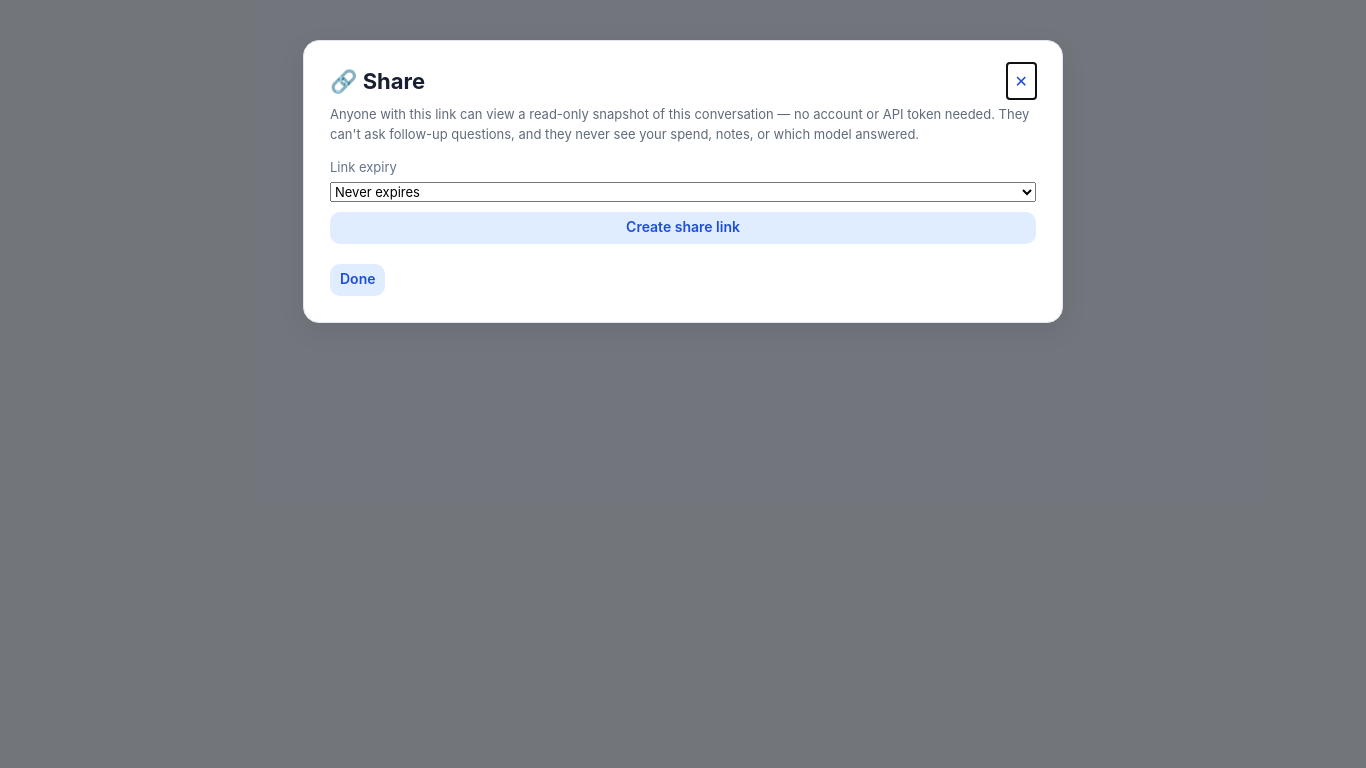
Test: Share › sends the chosen ttl_hours when creating a link
The width and height of the screenshot is (1366, 768).
Expected: the button "Create share link" is shown, [330,212,1036,244]
Select "24 hours" in the dropdown labelled "Link expiry" at (683, 192), box [330,182,1036,202]
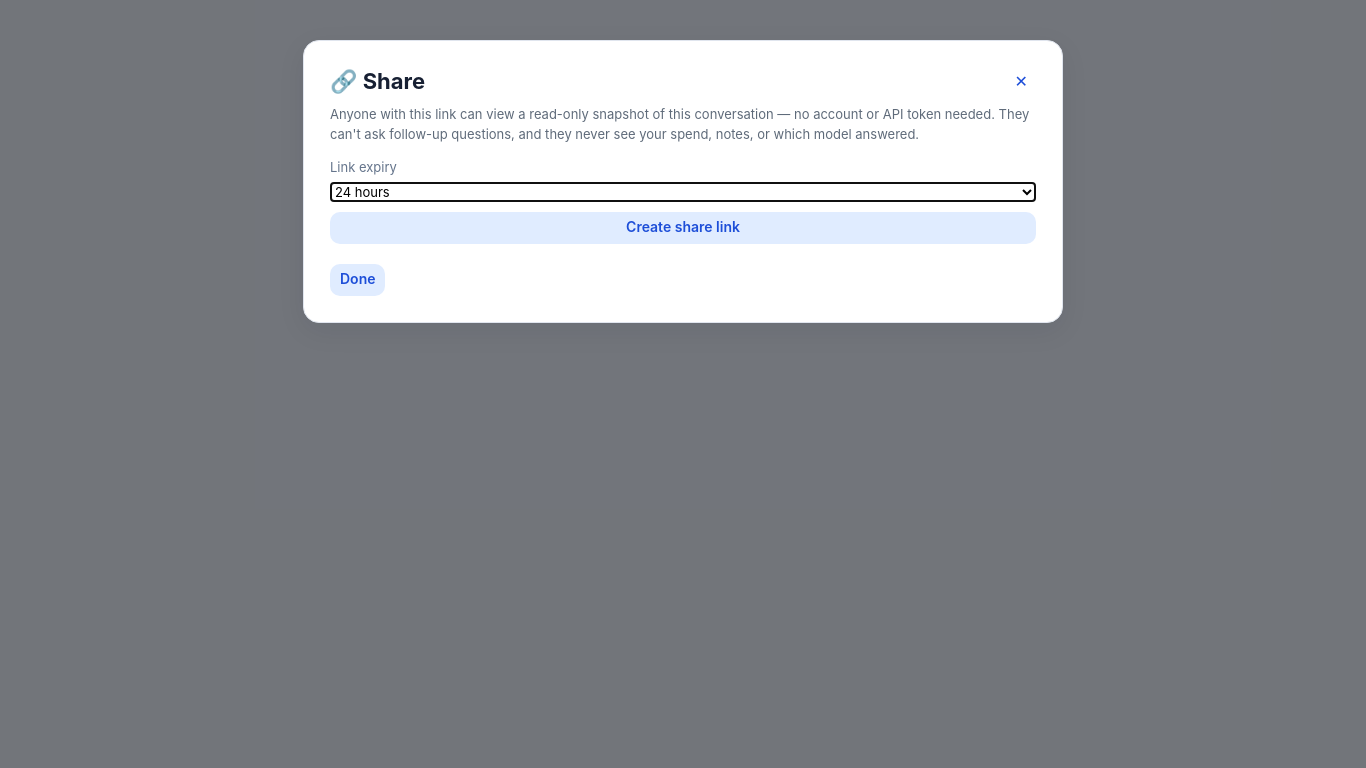
Click the button "Create share link" at (683, 228), box [330,212,1036,244]
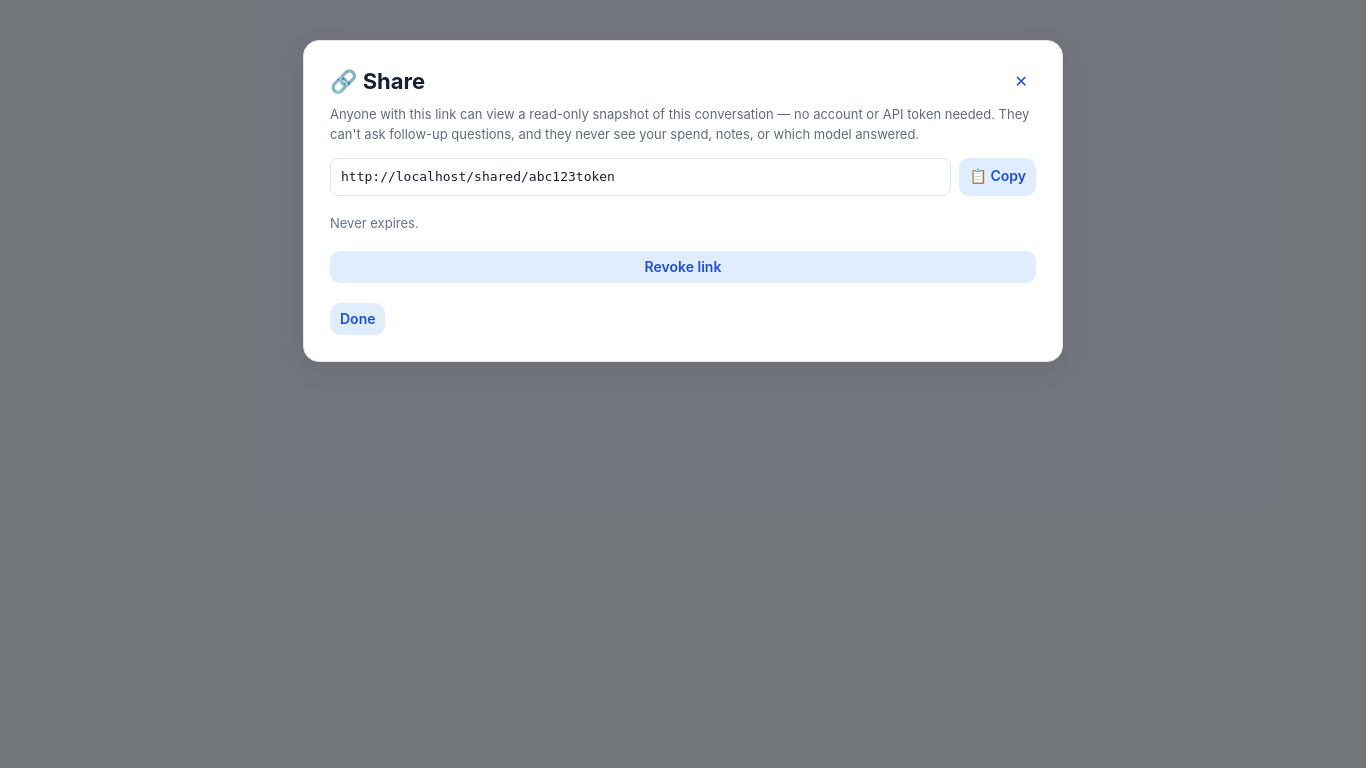
Expected: the field named "Share link" is shown, [330,158,951,196]
